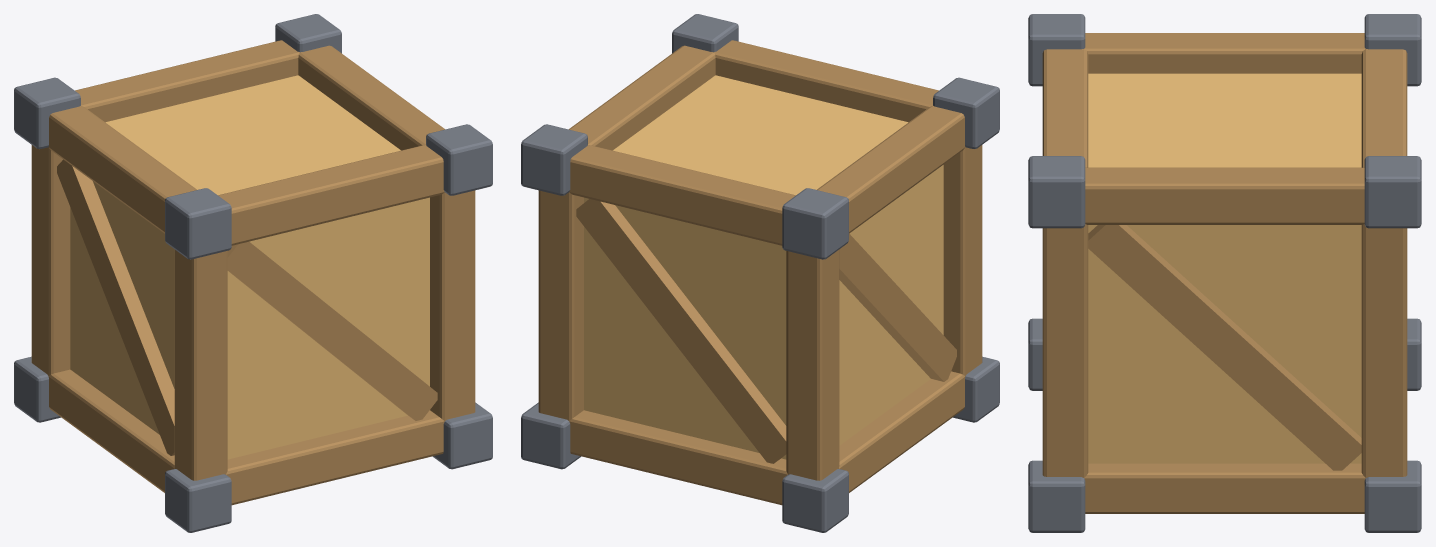
File: crate.glb
The picture shows the model from 3 angles, left to right: view 1: azimuth 30°, elevation 25°; view 2: azimuth 150°, elevation 25°; view 3: azimuth 270°, elevation 25°; orthographic projection. The views are drawn at different scales.
Parts seen in each view (by area): view 1: CrateCore, EdgeZ_-0.56_-0.56, EdgeX_-0.56_0.56, EdgeZ_0.56_-0.56, EdgeX_-0.56_-0.56, BraceFront, BraceLeft, EdgeZ_-0.56_0.56, EdgeX_0.56_0.56, EdgeY_-0.56_0.56, EdgeY_-0.56_-0.56, EdgeY_0.56_0.56 (+7 smaller); view 2: CrateCore, EdgeZ_-0.56_0.56, BraceBack, EdgeX_0.56_0.56, EdgeZ_0.56_0.56, EdgeX_0.56_-0.56, EdgeZ_-0.56_-0.56, EdgeX_-0.56_0.56, EdgeY_-0.56_0.56, EdgeY_-0.56_-0.56, EdgeY_0.56_0.56, BraceLeft (+7 smaller); view 3: CrateCore, EdgeY_0.56_0.56, BraceRight, EdgeY_0.56_-0.56, EdgeZ_0.56_0.56, EdgeZ_0.56_-0.56, EdgeY_-0.56_0.56, EdgeX_0.56_0.56, EdgeX_-0.56_0.56, Corner_0.59_0.59_0.59, Corner_0.59_-0.59_0.59, Corner_0.59_0.59_-0.59 (+5 smaller).
Boxes of the visible parts, x1,y1,x2,y2 form: CrateCore: (70, 75, 429, 459); EdgeZ_-0.56_-0.56: (174, 250, 227, 480); EdgeX_-0.56_0.56: (218, 145, 444, 245); EdgeZ_0.56_-0.56: (430, 190, 475, 420); EdgeX_-0.56_-0.56: (226, 410, 444, 505); BraceFront: (227, 241, 437, 420); BraceLeft: (57, 159, 174, 455); EdgeZ_-0.56_0.56: (31, 145, 70, 376); EdgeX_0.56_0.56: (75, 40, 299, 122); EdgeY_-0.56_0.56: (48, 106, 196, 233); EdgeY_-0.56_-0.56: (48, 369, 174, 492); EdgeY_0.56_0.56: (298, 45, 444, 150); CrateCore: (584, 75, 943, 459); EdgeZ_-0.56_0.56: (786, 250, 839, 480); BraceBack: (576, 199, 786, 463); EdgeX_0.56_0.56: (569, 145, 795, 245); EdgeZ_0.56_0.56: (538, 190, 583, 420); EdgeX_0.56_-0.56: (569, 410, 787, 505); EdgeZ_-0.56_-0.56: (943, 145, 982, 376); EdgeX_-0.56_0.56: (714, 40, 938, 122); EdgeY_-0.56_0.56: (817, 106, 965, 233); EdgeY_-0.56_-0.56: (839, 371, 965, 492); EdgeY_0.56_0.56: (569, 45, 715, 150); BraceLeft: (839, 233, 956, 381); CrateCore: (1088, 73, 1361, 463); EdgeY_0.56_0.56: (1085, 167, 1364, 224); BraceRight: (1088, 225, 1361, 470); EdgeY_0.56_-0.56: (1084, 463, 1365, 513); EdgeZ_0.56_0.56: (1361, 224, 1407, 477); EdgeZ_0.56_-0.56: (1042, 224, 1088, 477); EdgeY_-0.56_0.56: (1084, 33, 1365, 73); EdgeX_0.56_0.56: (1361, 49, 1407, 167); EdgeX_-0.56_0.56: (1042, 49, 1088, 167); Corner_0.59_0.59_0.59: (1364, 156, 1421, 228); Corner_0.59_-0.59_0.59: (1028, 156, 1085, 228); Corner_0.59_0.59_-0.59: (1364, 460, 1421, 532).
Size of the model in its own units: 1.38 by 1.38 by 1.38.
